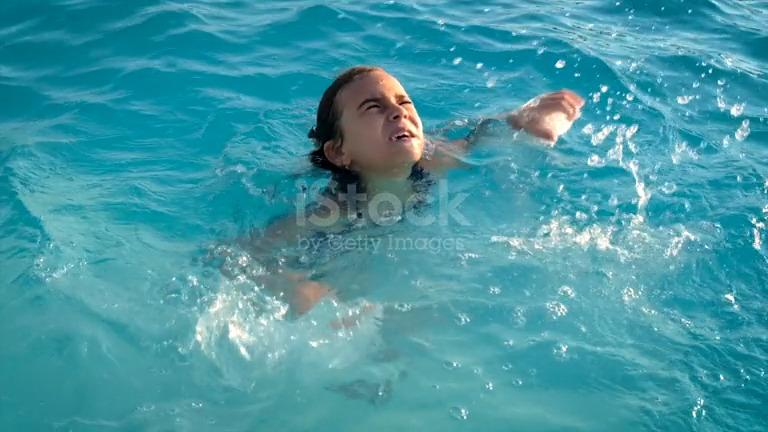Drowning: (94, 4, 666, 352)
